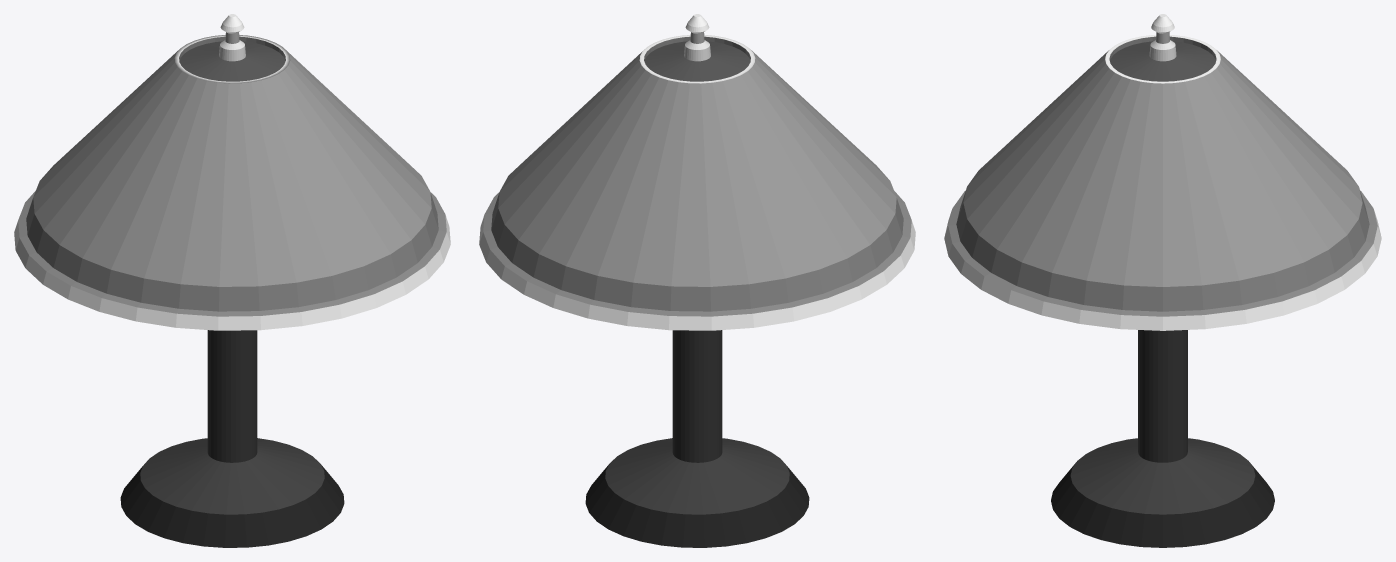
File: LampModel.fbx
3 renders of one model, left to right at view 1: azimuth 30°, elevation 25°; view 2: azimuth 150°, elevation 25°; view 3: azimuth 270°, elevation 25°, orthographic.
Parts seen in each view (by area): view 1: LampModel; view 2: LampModel; view 3: LampModel.
Boxes of the visible parts, x1=… form: LampModel: x1=14, y1=14, x2=450, y2=547; LampModel: x1=479, y1=14, x2=915, y2=547; LampModel: x1=944, y1=14, x2=1381, y2=547.
Size of the model in its own units: 61.96 by 75.79 by 61.96.
